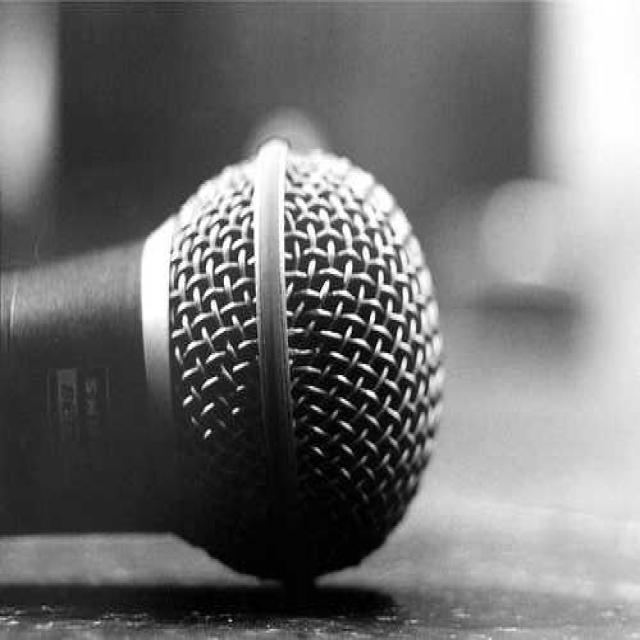microphone: (4, 134, 440, 579)
